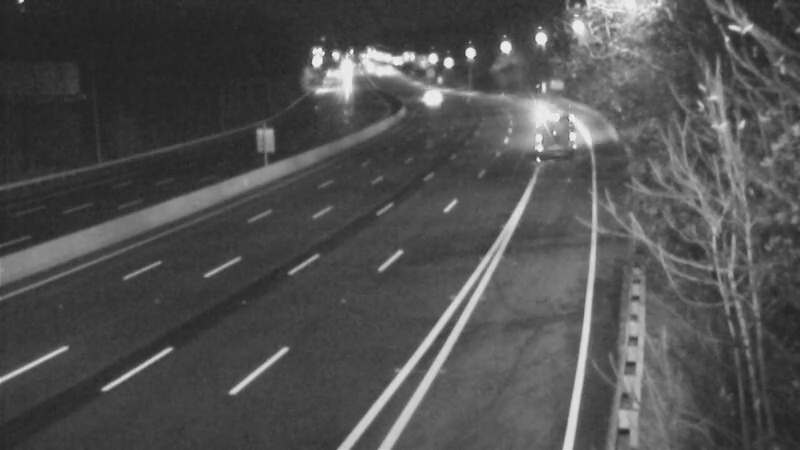vehicle: (403, 70, 453, 120), (530, 93, 580, 143)
